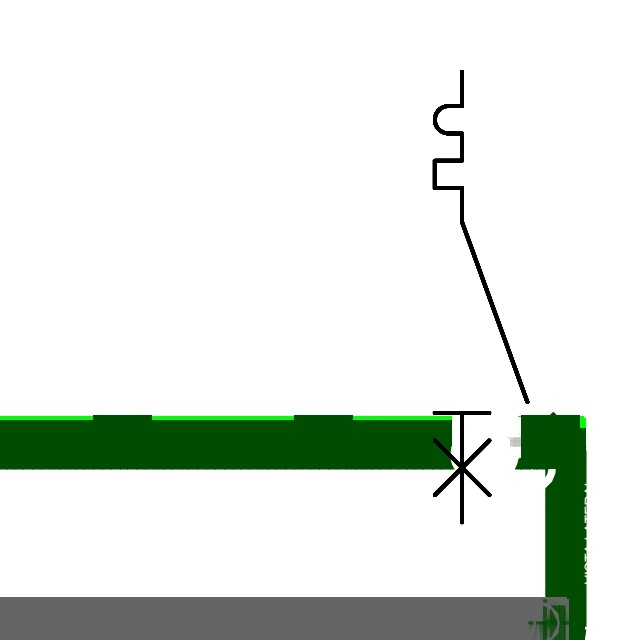interruptor_termomagnetico: (423, 60, 539, 534)
